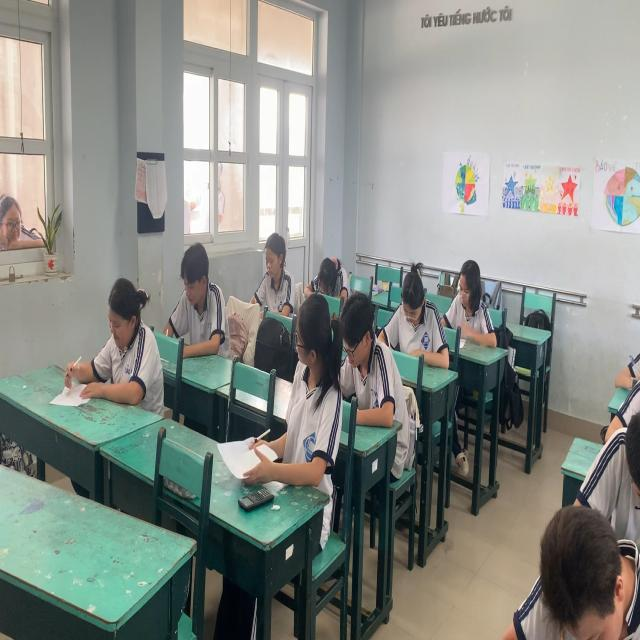cheating: (285, 302, 342, 494)
not_cheating: (527, 492, 640, 640), (92, 270, 159, 430), (337, 290, 394, 420), (170, 241, 226, 352), (392, 262, 438, 362), (452, 262, 497, 348), (250, 227, 292, 316), (314, 249, 347, 309)
